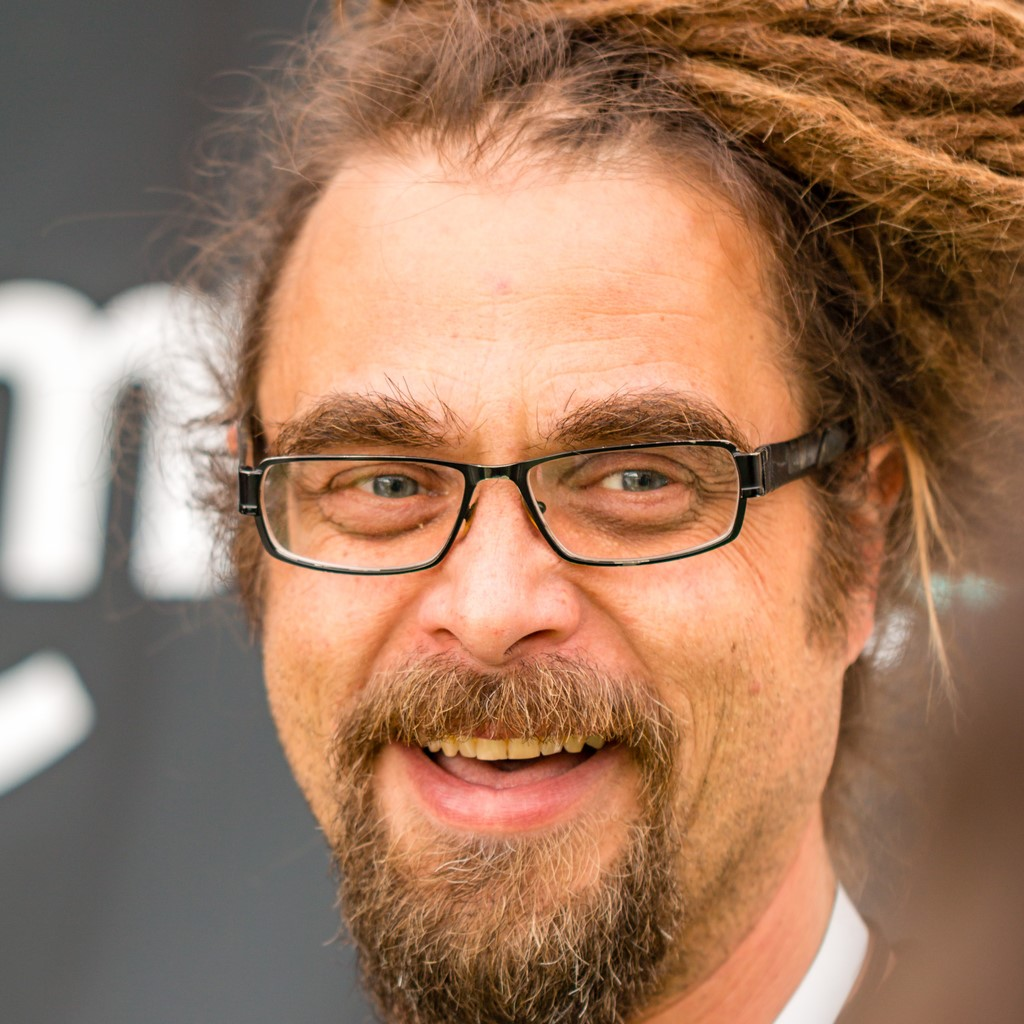sin_mascara: (243, 123, 863, 1024)
